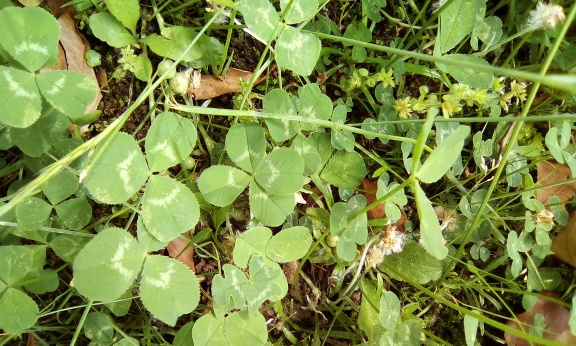4leaf: (195, 121, 303, 227)
